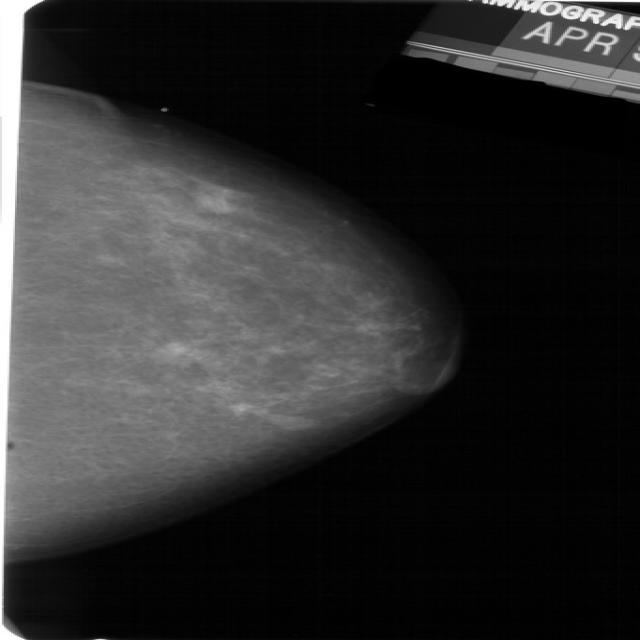tumour: (156, 339, 188, 357)
